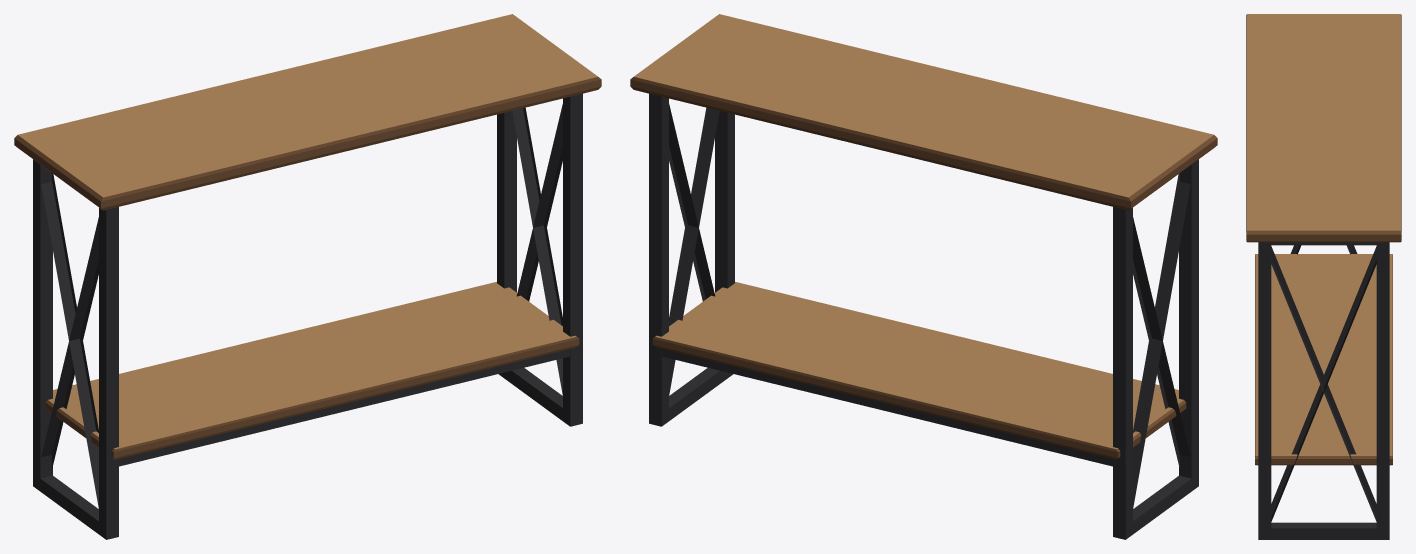
Rendered from FN_Table_Console.glb.
3 renders of one model, left to right at view 1: azimuth 30°, elevation 25°; view 2: azimuth 150°, elevation 25°; view 3: azimuth 270°, elevation 25°, orthographic. The views are drawn at different scales.
Visible parts, largest first — view 1: FN_Table_Console; view 2: FN_Table_Console; view 3: FN_Table_Console.
Boxes of the visible parts, bbox=[...] form: FN_Table_Console: bbox=[14, 14, 601, 539]; FN_Table_Console: bbox=[630, 14, 1217, 539]; FN_Table_Console: bbox=[1246, 14, 1401, 539].
Size of the model in its own units: 1.2 by 0.8 by 0.36.
Materials: 1 (1 with a texture image).
